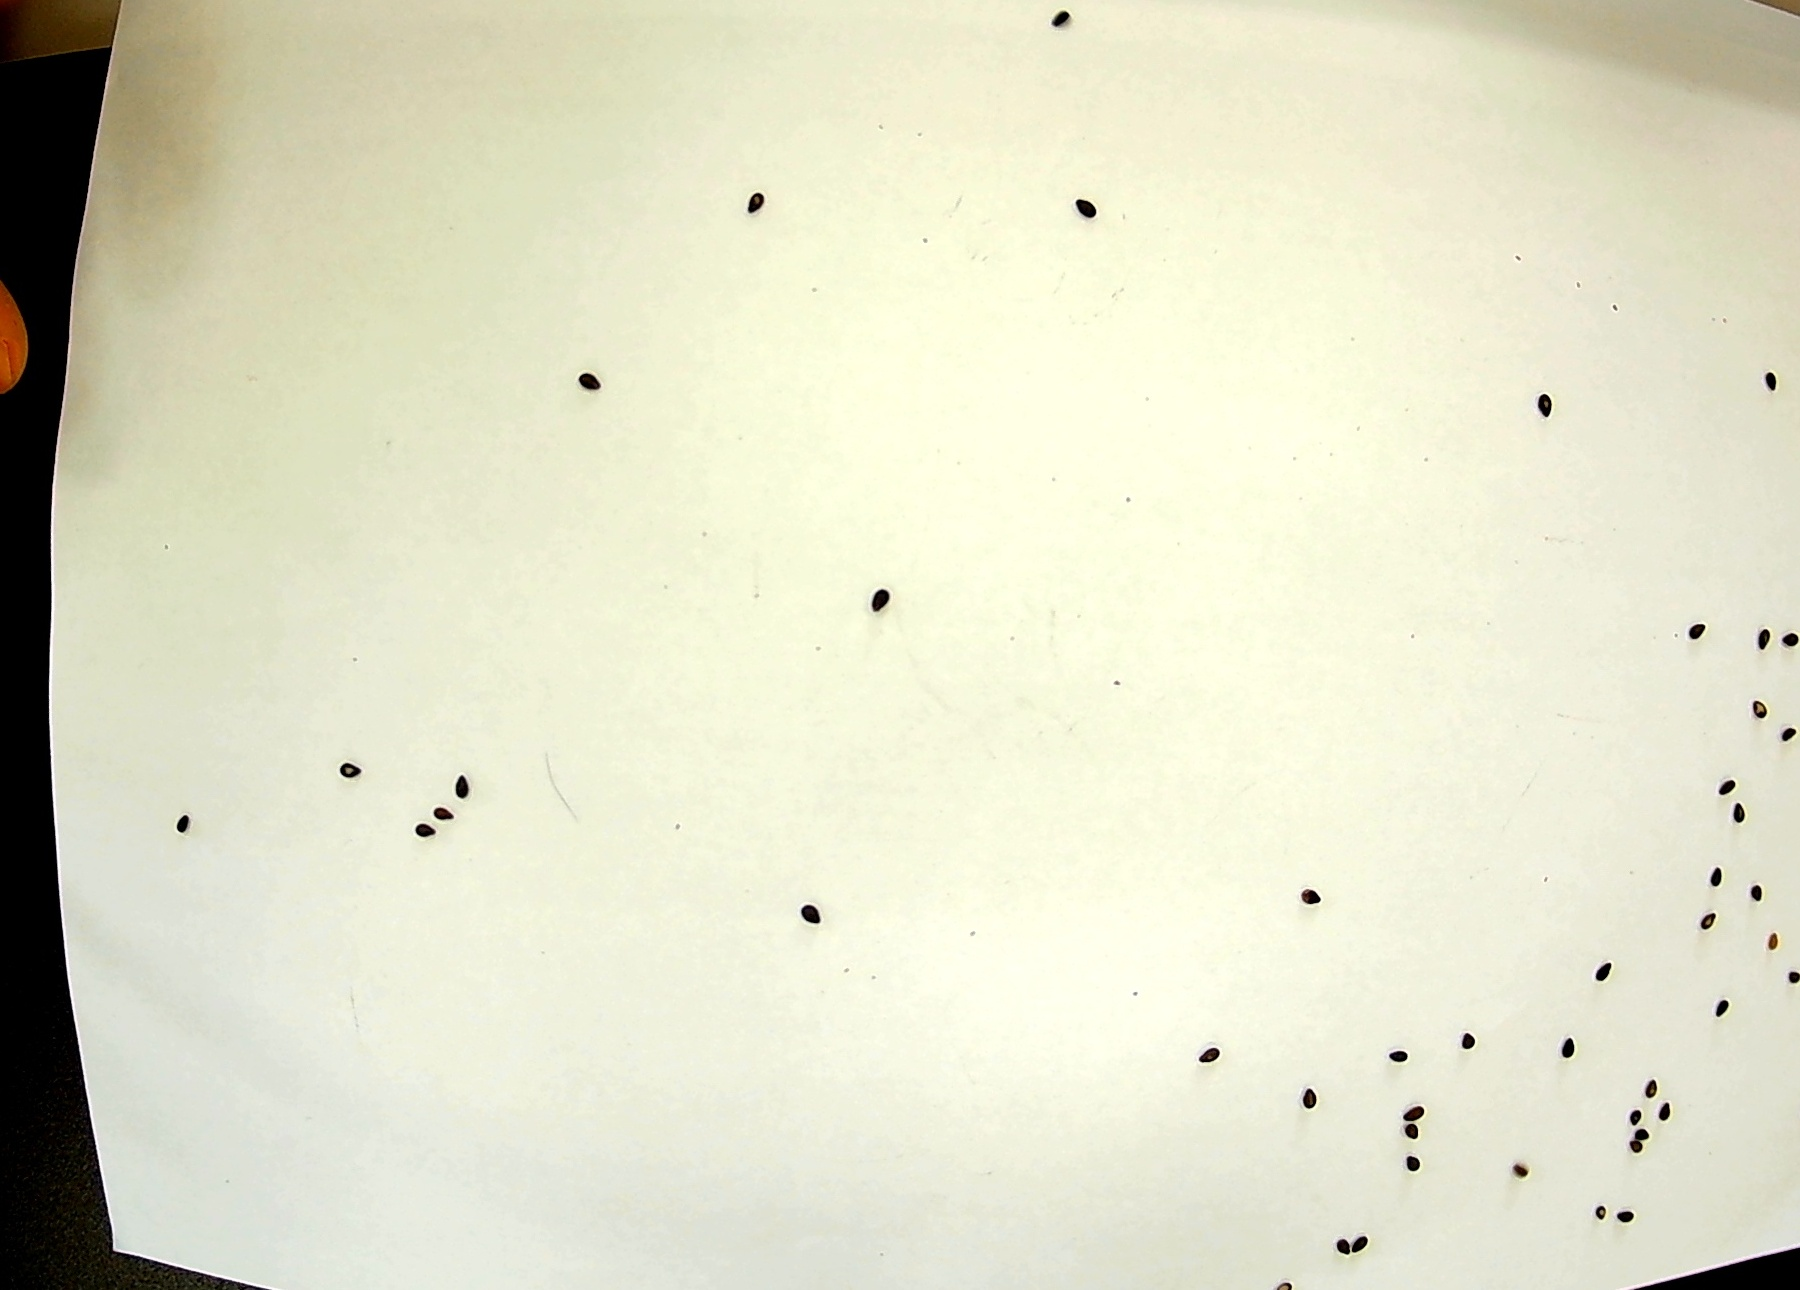sesami: (1067, 190, 1107, 221), (794, 894, 827, 927), (573, 367, 608, 398), (332, 759, 374, 783), (867, 584, 894, 618), (740, 184, 769, 216), (169, 810, 197, 840), (1535, 390, 1560, 422), (453, 771, 477, 804), (1778, 720, 1800, 754), (1559, 1035, 1585, 1062), (1400, 1121, 1427, 1148), (1741, 882, 1772, 906), (1194, 1043, 1225, 1067), (1762, 363, 1785, 395), (1049, 7, 1076, 34), (1683, 616, 1712, 639), (1400, 1102, 1432, 1122), (1457, 1030, 1483, 1055), (1402, 1152, 1427, 1178), (428, 801, 456, 825), (1299, 1082, 1321, 1110), (1386, 1046, 1415, 1067), (1776, 623, 1800, 648), (412, 818, 438, 840), (1747, 697, 1769, 723), (1298, 889, 1328, 907), (1755, 625, 1773, 656), (1593, 962, 1616, 984), (1715, 778, 1740, 797), (1656, 1102, 1677, 1124), (1732, 804, 1753, 825), (1705, 864, 1726, 885), (1713, 995, 1734, 1016), (1700, 909, 1718, 933), (1626, 1139, 1649, 1157), (1642, 1076, 1662, 1097), (1628, 1106, 1647, 1128), (1783, 969, 1800, 988), (1635, 1129, 1653, 1141)
